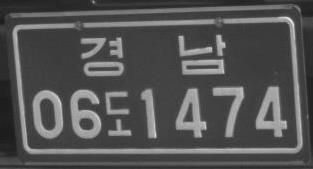0: (30, 88, 64, 140)
1: (136, 87, 161, 140)
4: (173, 86, 207, 138), (254, 84, 287, 137)
6: (69, 88, 102, 140)
7: (210, 85, 246, 139)
경남_D: (79, 34, 227, 78)
도: (103, 89, 132, 137)
